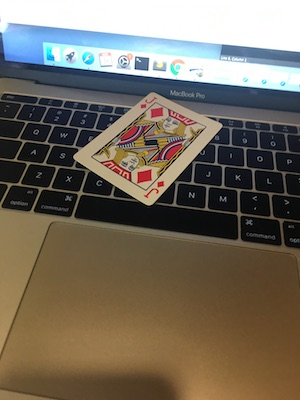JackOfDiamonds: (64, 87, 231, 211)
